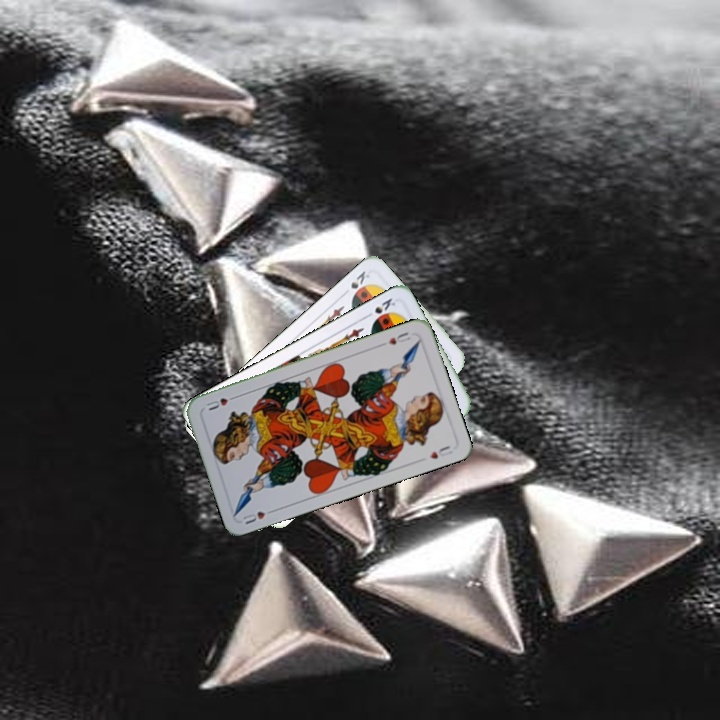HU: (239, 505, 278, 527), (384, 328, 415, 347)
SK: (361, 294, 398, 324), (346, 266, 372, 300)
